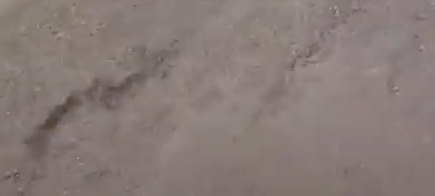Retak Memanjang: (18, 29, 433, 139)
